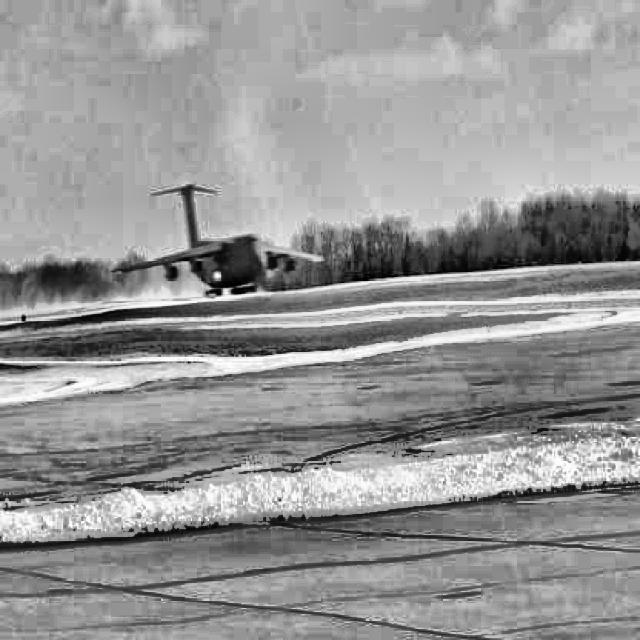C5: (108, 184, 324, 298)
